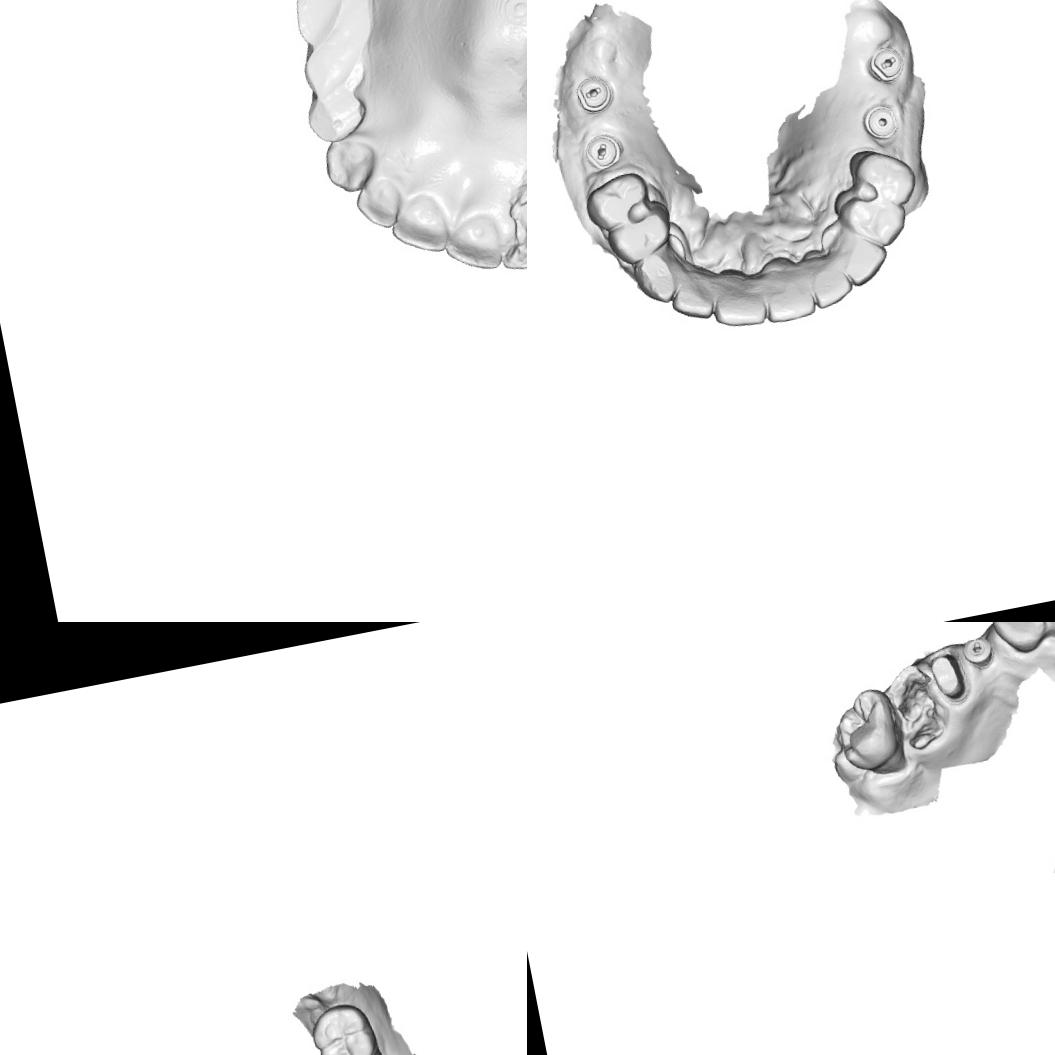canine: (318, 130, 386, 196), (628, 238, 692, 308), (829, 224, 892, 290), (986, 622, 1053, 659)
crown: (926, 647, 972, 708)
implant: (859, 100, 900, 144)
implant_minus: (572, 72, 616, 116), (864, 42, 908, 86), (580, 130, 626, 172), (958, 632, 997, 672)
incisor: (436, 208, 509, 278), (382, 189, 450, 261), (756, 259, 817, 326), (706, 272, 770, 333), (350, 174, 408, 235), (802, 252, 856, 312), (664, 268, 720, 324)
molar: (826, 682, 912, 784), (307, 997, 381, 1055)
premolar: (600, 200, 678, 268), (579, 167, 655, 235), (849, 144, 922, 214), (843, 192, 912, 254)
